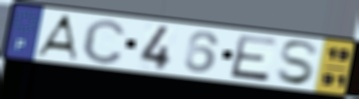4: (137, 23, 174, 72)
6: (183, 30, 222, 75)
A: (32, 14, 79, 62)
C: (80, 18, 128, 66)
E: (227, 34, 280, 84)
S: (274, 39, 322, 87)
